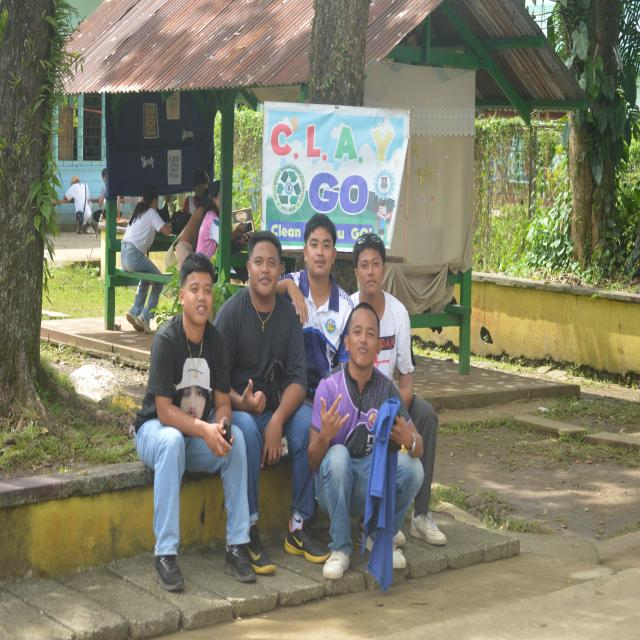person: (134, 254, 255, 590), (214, 231, 329, 573), (309, 304, 423, 579), (352, 234, 446, 544), (277, 214, 353, 402), (121, 186, 171, 274)
